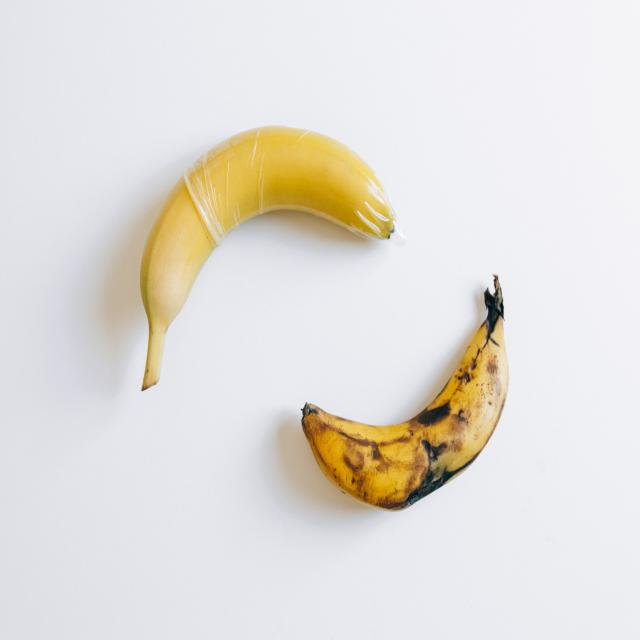Banana: (137, 120, 396, 399), (306, 286, 526, 505)
